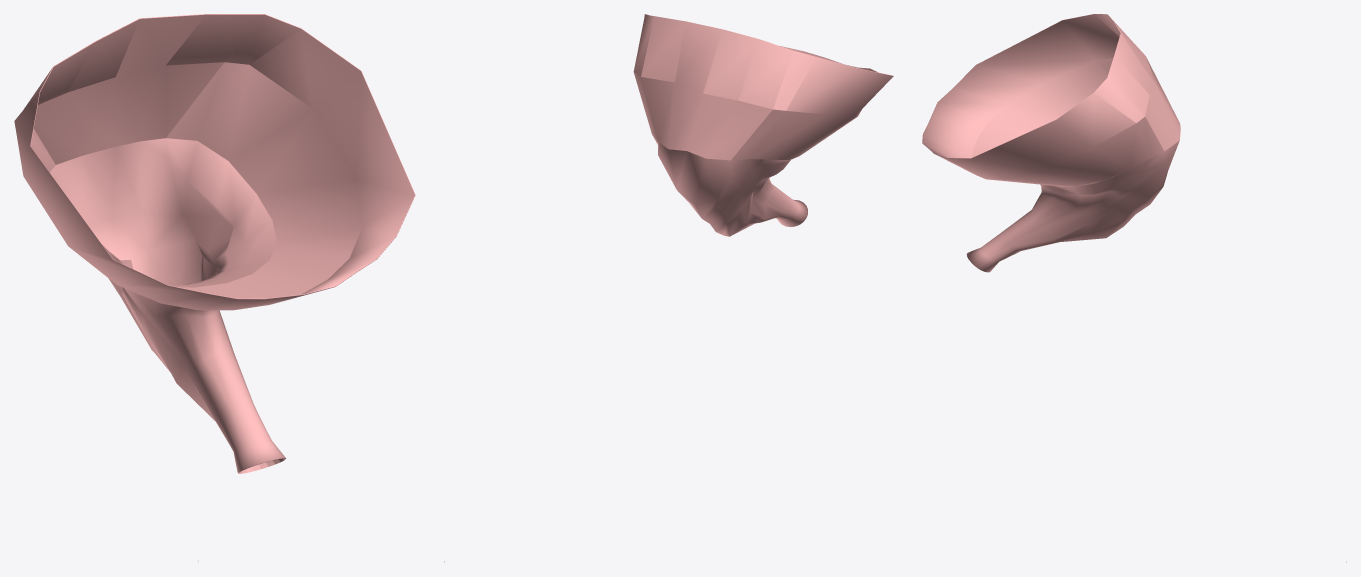
Rendered from meshmedioamplio.fbx.
The picture shows the model from 3 angles, left to right: view 1: azimuth 30°, elevation 25°; view 2: azimuth 150°, elevation 25°; view 3: azimuth 270°, elevation 25°; orthographic projection. The views are drawn at different scales.
Parts seen in each view (by area): view 1: caso_1:vagina1_Mesh; view 2: caso_1:vagina1_Mesh; view 3: caso_1:vagina1_Mesh.
Boxes of the visible parts, box(x1,y1,x2,y2) form: caso_1:vagina1_Mesh: box(14, 14, 415, 473); caso_1:vagina1_Mesh: box(633, 14, 893, 236); caso_1:vagina1_Mesh: box(922, 14, 1180, 272).
Bounding box in the file's own units: 795 × 1408 × 1186.
